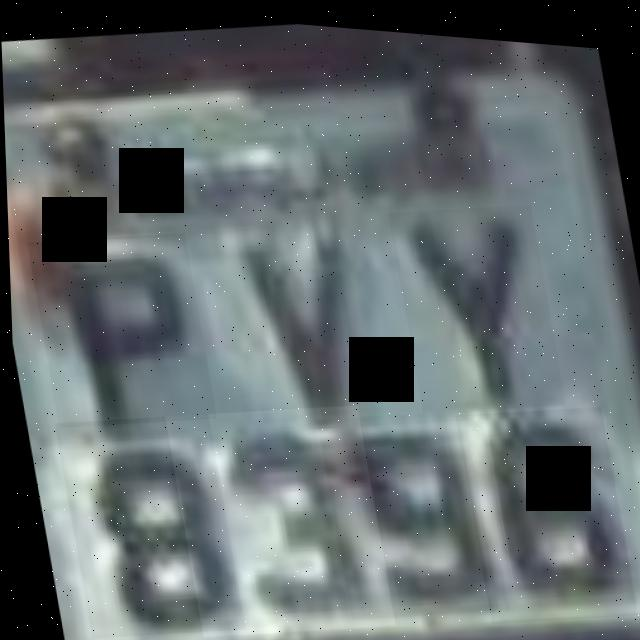3: (161, 387, 392, 640)
6: (452, 388, 634, 625)
8: (51, 401, 242, 640)
9: (314, 393, 506, 625)
P: (25, 220, 215, 437)
V: (226, 208, 390, 427)
Y: (386, 187, 564, 416)
